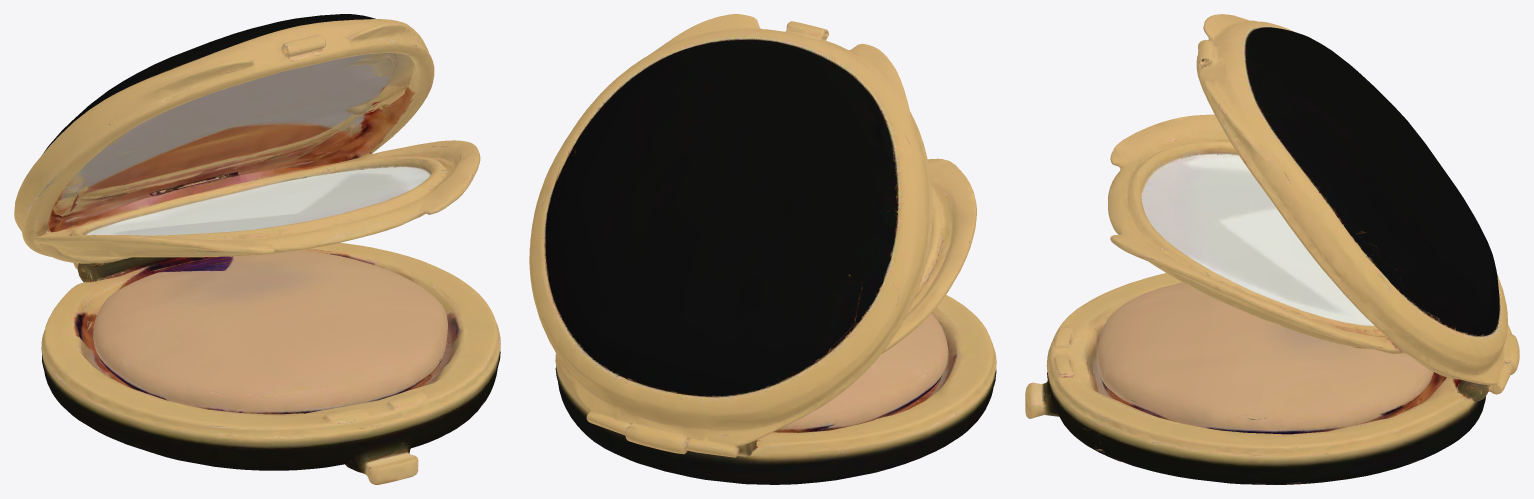
Rendered from compact.glb.
3 views of the same model, side by side, from view 1: azimuth 30°, elevation 25°; view 2: azimuth 150°, elevation 25°; view 3: azimuth 270°, elevation 25° (orthographic). The views are drawn at different scales.
Visible parts, largest first — view 1: Mesh_0; view 2: Mesh_0; view 3: Mesh_0.
Boxes of the visible parts, <box> form: Mesh_0: <box>14,14,500,484</box>; Mesh_0: <box>529,14,996,484</box>; Mesh_0: <box>1025,14,1519,484</box>.
Size of the model in its own units: 1.73 by 1.54 by 1.91.
Materials: 1 (1 with a texture image).
